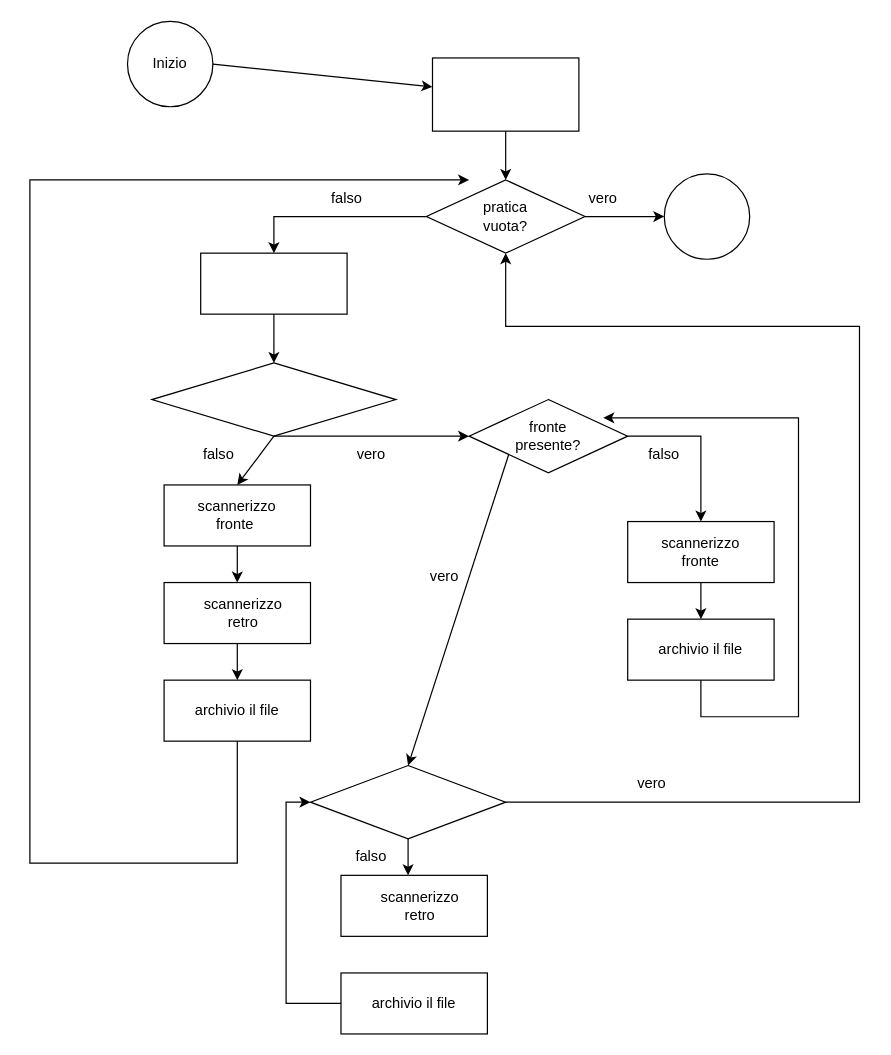
The diagram is 891 pixels wide and 1055 high, and some of its shapes have lost their labels. The shapes that lost their labels are listed below. From the top down, each one's centre as x and y in pixels, then its label:
At point 505,94: "raccolta pratica cartacea".
At point 706,216: "fine".
At point 273,283: "prendo pagina".
At point 273,399: "pagina presente nell'archivio digitale?".
At point 407,801: "retro presente?".
